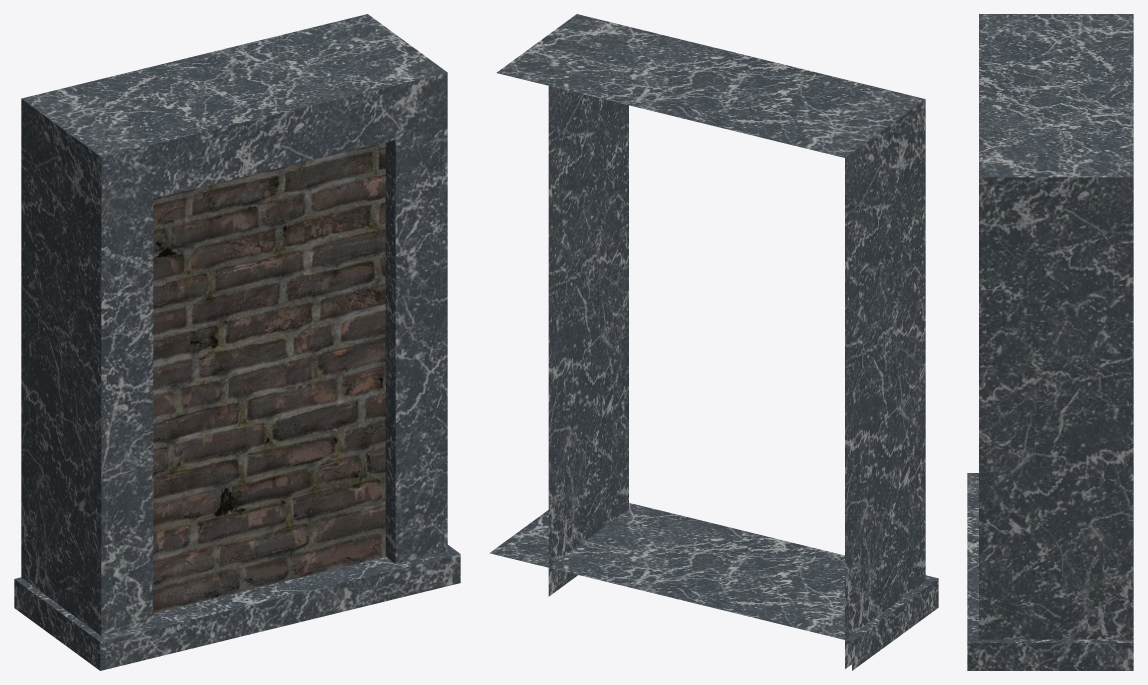
The model's file is bricked-niche.e3078da3.glb.
3 renders of one model, left to right at view 1: azimuth 30°, elevation 25°; view 2: azimuth 150°, elevation 25°; view 3: azimuth 270°, elevation 25°, orthographic. The views are drawn at different scales.
Parts seen in each view (by area): view 1: bricked-niche; view 2: bricked-niche; view 3: bricked-niche.
Part boxes in pixels (x1,y1,x2,y2): bricked-niche: [14, 14, 460, 670]; bricked-niche: [489, 14, 938, 670]; bricked-niche: [967, 14, 1133, 670].
Bounding box in the file's own units: 1.04 × 1.4 × 0.43.
2 materials, 2 textured.
